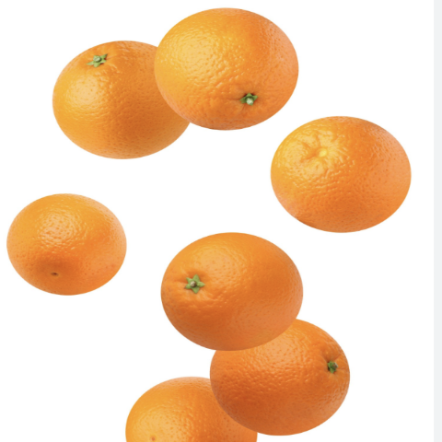orange: (263, 114, 422, 251), (146, 0, 307, 135), (197, 313, 372, 435), (43, 36, 201, 161), (151, 230, 307, 356), (4, 185, 127, 300), (116, 364, 260, 442)
